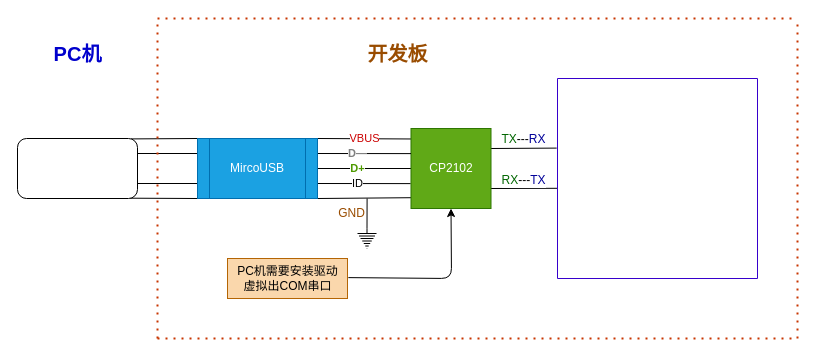
The diagram is 817 pixels wide and 357 high, and some of its shapes have lost their labels. Here are the shapes that lost their labels. From the top down, the centre of each, then its label:
At point (77, 168): "USB".
At point (657, 178): "ESP32-WROOT-32".
